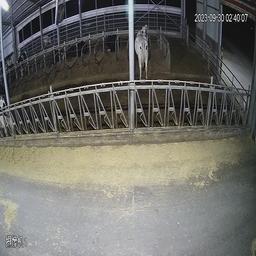cow: (134, 21, 153, 82), (102, 26, 122, 56), (67, 36, 88, 62), (15, 48, 32, 78), (47, 43, 61, 67)
